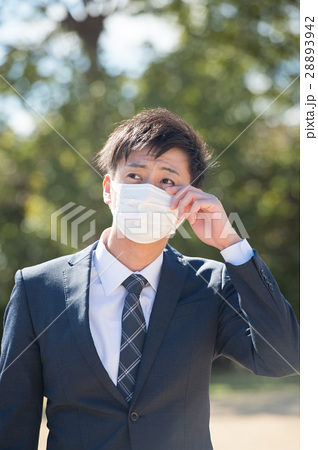mask: (102, 185, 191, 258)
